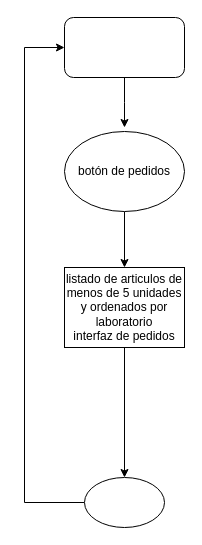
The diagram is 202 pixels wide and 545 high, and some of its shapes have lost their labels. The box of each missing label's shape, as (x1, y1, x2, y2) in pixels:
Interfaz principal: (64, 16, 184, 78)
salir boton: (84, 476, 164, 528)
